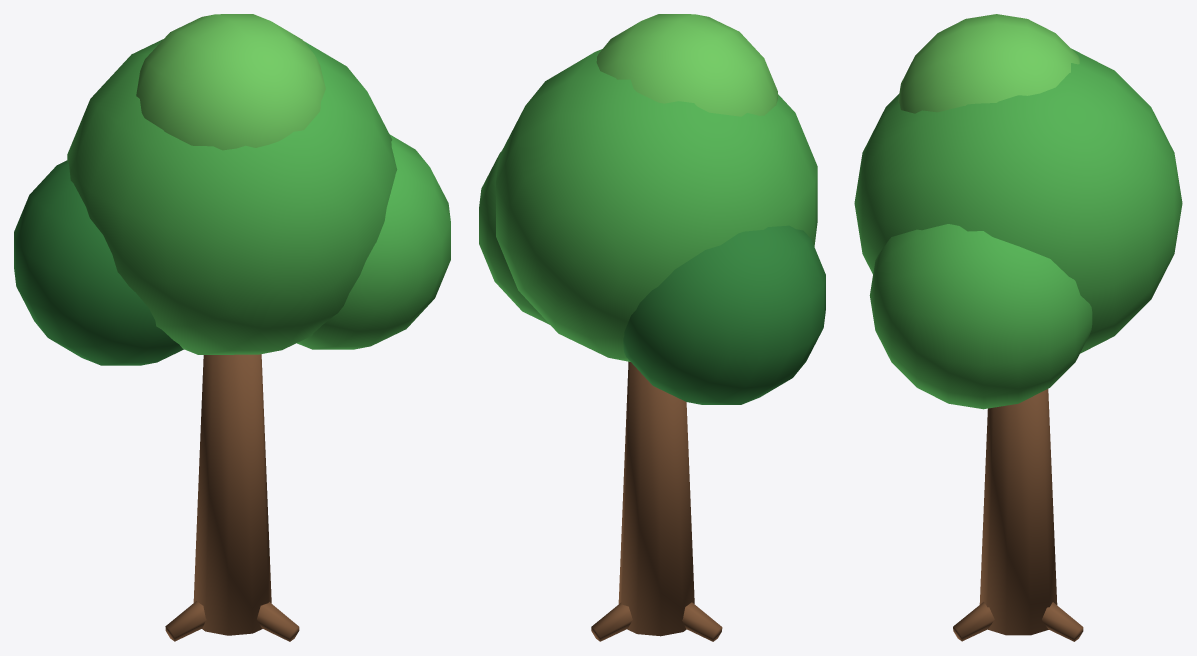
The model's file is Tree_Round.fbx.
3 renders of one model, left to right at view 1: azimuth 30°, elevation 25°; view 2: azimuth 150°, elevation 25°; view 3: azimuth 270°, elevation 25°, orthographic. The views are drawn at different scales.
Parts seen in each view (by area): view 1: Tree_Round; view 2: Tree_Round; view 3: Tree_Round.
Boxes of the visible parts, bbox=[...] form: Tree_Round: bbox=[14, 14, 450, 641]; Tree_Round: bbox=[479, 14, 825, 641]; Tree_Round: bbox=[854, 14, 1182, 641].
Bounding box in the file's own units: 9.37 × 15.06 × 7.5.
1 material, 1 textured.
